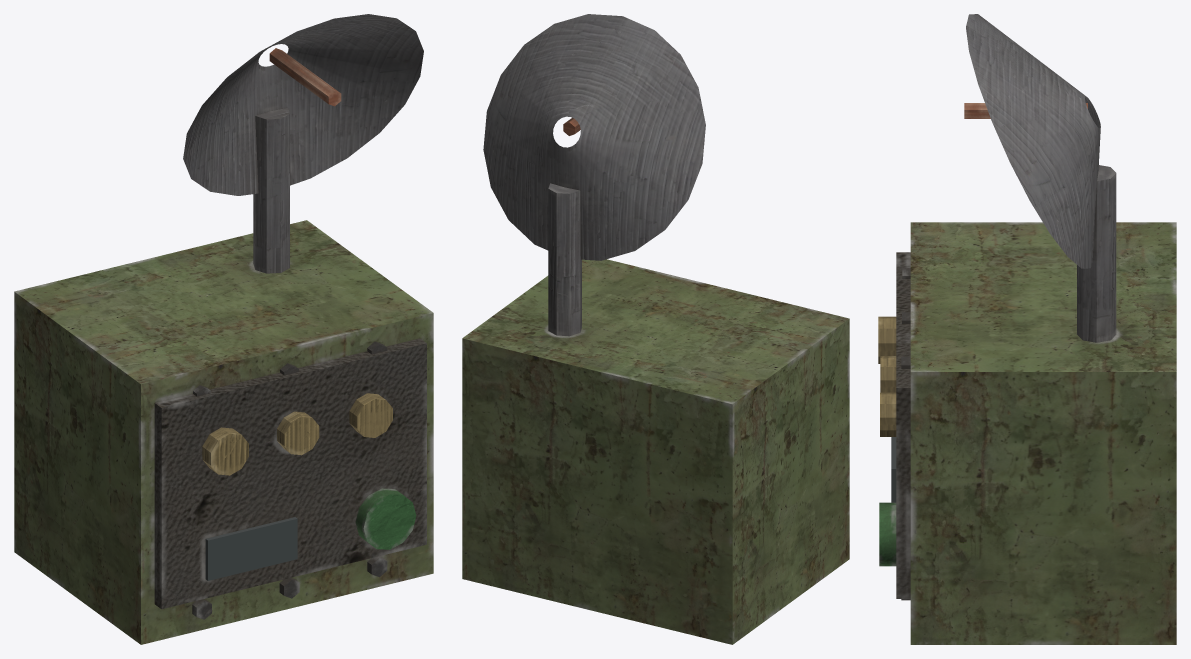
Rendered from feWirelessRx_HD.fbx.
3 views of the same model, side by side, from view 1: azimuth 30°, elevation 25°; view 2: azimuth 150°, elevation 25°; view 3: azimuth 270°, elevation 25° (orthographic). The views are drawn at different scales.
Parts seen in each view (by area): view 1: feWirelessRx_Base; view 2: feWirelessRx_Base; view 3: feWirelessRx_Base.
Boxes of the visible parts, box(x1,y1,x2,y2) form: feWirelessRx_Base: box(14, 14, 433, 644); feWirelessRx_Base: box(462, 14, 849, 644); feWirelessRx_Base: box(878, 14, 1176, 644).
Bounding box in the file's own units: 0.4606 × 0.725 × 0.338.
Materials: 1 (1 with a texture image).
